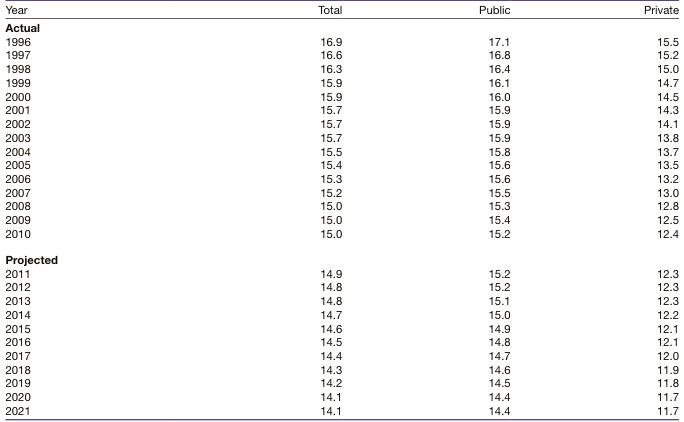table: (4, 3, 678, 416)
table column: (173, 3, 409, 416), (4, 3, 173, 416), (409, 3, 576, 416), (576, 3, 678, 416)
table column header: (4, 3, 678, 18)
table projected row header: (4, 246, 678, 266), (4, 18, 678, 34)
table row: (4, 226, 678, 246), (4, 246, 678, 266), (4, 18, 678, 34), (4, 3, 678, 18), (4, 34, 678, 48), (4, 61, 678, 75), (4, 75, 678, 89), (4, 89, 678, 103), (4, 116, 678, 130), (4, 130, 678, 144), (4, 144, 678, 158), (4, 171, 678, 185), (4, 185, 678, 199), (4, 212, 678, 226), (4, 266, 678, 280), (4, 293, 678, 307), (4, 307, 678, 321), (4, 321, 678, 335), (4, 348, 678, 362), (4, 362, 678, 376), (4, 389, 678, 403), (4, 48, 678, 61), (4, 103, 678, 116), (4, 158, 678, 171), (4, 199, 678, 212), (4, 280, 678, 293), (4, 335, 678, 348), (4, 376, 678, 389), (4, 403, 678, 416)
